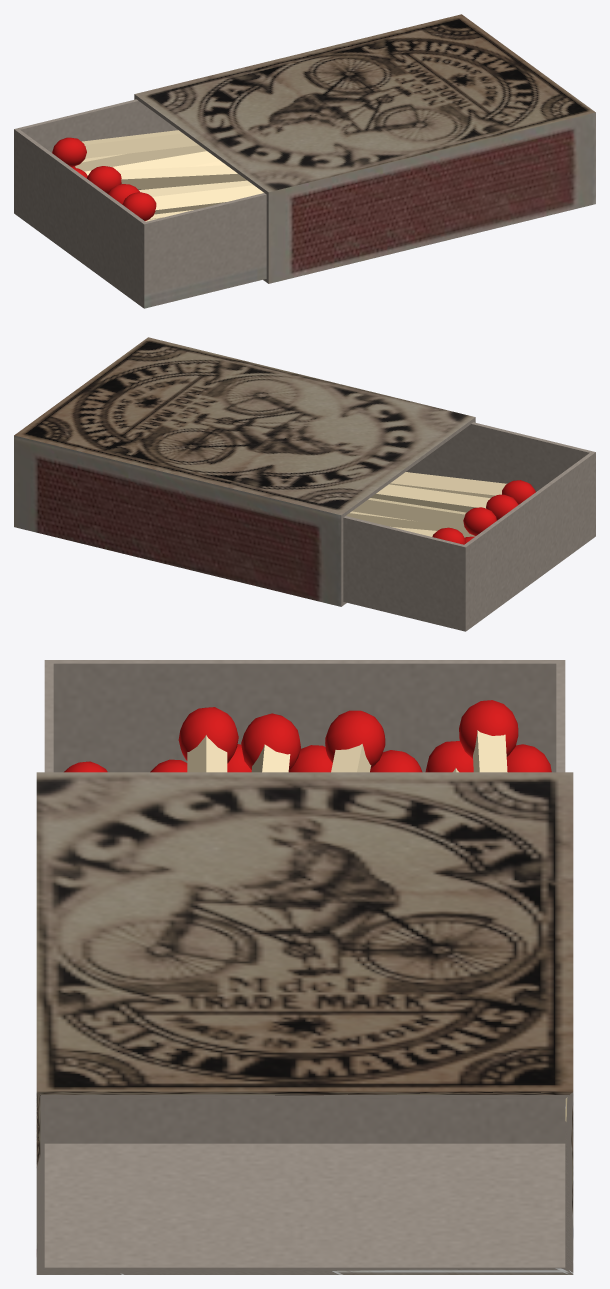
The model's file is MatchBox.glb.
3 renders of one model, top to bottom at view 1: azimuth 30°, elevation 25°; view 2: azimuth 150°, elevation 25°; view 3: azimuth 270°, elevation 25°, orthographic. The views are drawn at different scales.
Visible parts, largest first — view 1: Matchbox.Outer, Matchbox.Inner, Match.Stick.016, Match.Stick.014, Match.Stick.018, Match.Stick.008, Match.Stick.017, Match.Stick.015; view 2: Matchbox.Outer, Matchbox.Inner, Match.Stick.016, Match.Stick.017, Match.Stick.018, Match.Stick.011, Match.Stick.014; view 3: Matchbox.Outer, Matchbox.Inner, Match.Stick.014, Match.Stick.018, Match.Stick.016, Match.Stick.017, Match.Stick.015, Match.Stick.008, Match.Stick.011, Match.Stick.010.
Boxes of the visible parts, x1,y1,x2,y2 form: Matchbox.Outer: (134, 14, 595, 283); Matchbox.Inner: (14, 99, 266, 308); Match.Stick.016: (87, 165, 246, 193); Match.Stick.014: (52, 130, 198, 166); Match.Stick.018: (122, 185, 263, 220); Match.Stick.008: (71, 145, 206, 171); Match.Stick.017: (108, 180, 253, 204); Match.Stick.015: (72, 151, 220, 178); Matchbox.Outer: (14, 337, 475, 606); Matchbox.Inner: (343, 422, 595, 631); Match.Stick.016: (352, 498, 496, 535); Match.Stick.017: (370, 484, 518, 520); Match.Stick.018: (389, 472, 535, 504); Match.Stick.011: (346, 511, 475, 537); Match.Stick.014: (390, 526, 465, 544); Matchbox.Outer: (36, 772, 573, 1274); Matchbox.Inner: (44, 660, 565, 1143); Match.Stick.014: (459, 700, 518, 772); Match.Stick.018: (178, 707, 238, 772); Match.Stick.016: (325, 710, 385, 772); Match.Stick.017: (241, 713, 300, 772); Match.Stick.015: (425, 741, 473, 772); Match.Stick.008: (506, 744, 551, 772); Match.Stick.011: (288, 745, 332, 772); Match.Stick.010: (370, 750, 422, 772).
Bounding box in the file's own units: 0.0824 × 0.016 × 0.0426.
1 material, 1 textured.
